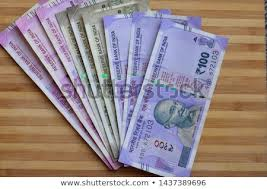hundred: (142, 40, 212, 166)
